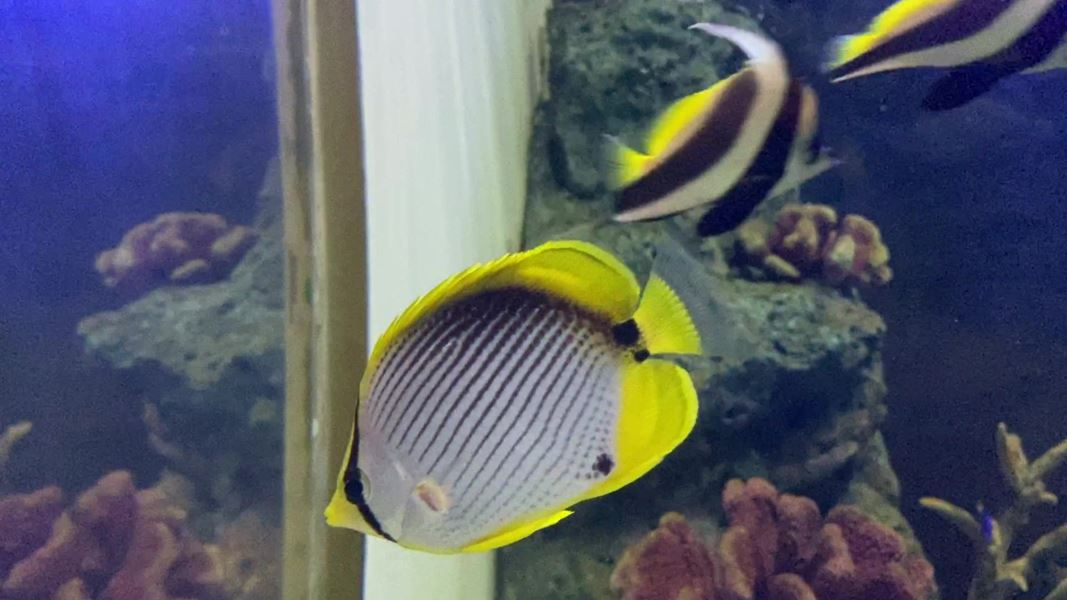Black-backed butterflyfish: (314, 213, 766, 569)
